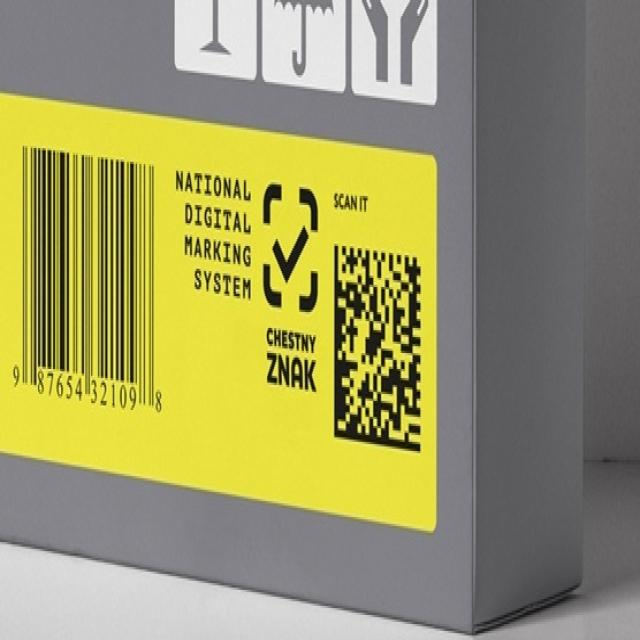datamatrix: (327, 232, 428, 465)
